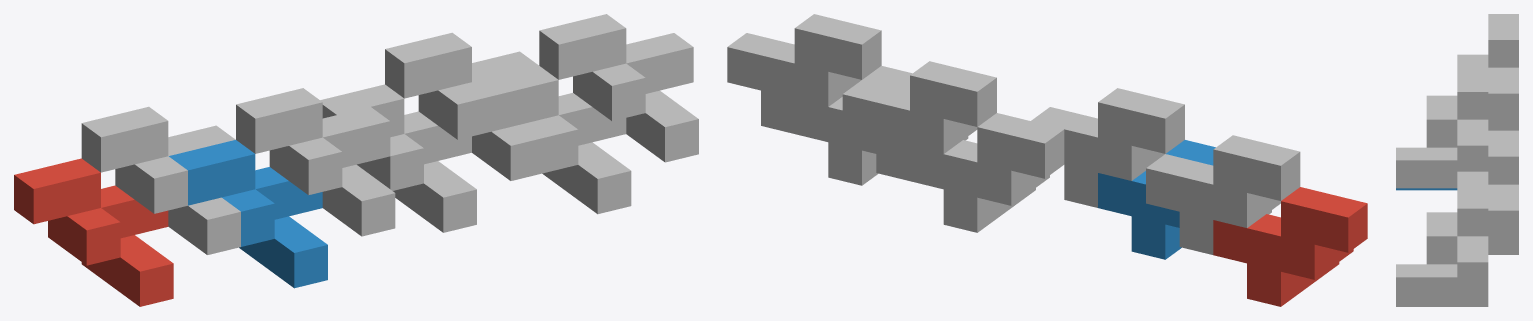
The model's file is tiling.obj.
The picture shows the model from 3 angles, left to right: view 1: azimuth 30°, elevation 25°; view 2: azimuth 150°, elevation 25°; view 3: azimuth 270°, elevation 25°; orthographic projection. The views are drawn at different scales.
Visible parts, largest first — view 1: copy_1_domain_4, copy_1_domain_8, copy_1_domain_1, copy_1_domain_7, copy_1_domain_3, copy_1_domain_6, copy_1_domain_2, copy_1_domain_5; view 2: copy_1_domain_5, copy_1_domain_1, copy_1_domain_3, copy_1_domain_7, copy_1_domain_8, copy_1_domain_4, copy_1_domain_6, copy_1_domain_2; view 3: copy_1_domain_8, copy_1_domain_4, copy_1_domain_7, copy_1_domain_3, copy_1_domain_6, copy_1_domain_2.
Boxes of the visible parts, x1,y1,x2,y2 form: copy_1_domain_4: (236,88,395,236); copy_1_domain_8: (539,14,698,162); copy_1_domain_1: (14,158,173,306); copy_1_domain_7: (385,32,544,180); copy_1_domain_3: (81,106,240,254); copy_1_domain_6: (472,66,631,214); copy_1_domain_2: (169,140,327,288); copy_1_domain_5: (320,84,476,232); copy_1_domain_5: (910,113,1064,232); copy_1_domain_1: (1213,187,1367,306); copy_1_domain_3: (1146,135,1300,254); copy_1_domain_7: (842,61,996,180); copy_1_domain_8: (727,14,881,133); copy_1_domain_4: (1031,88,1184,207); copy_1_domain_6: (794,65,912,185); copy_1_domain_2: (1098,140,1215,259); copy_1_domain_8: (1396,182,1488,304); copy_1_domain_4: (1396,66,1488,188); copy_1_domain_7: (1426,130,1518,253); copy_1_domain_3: (1426,14,1518,130); copy_1_domain_6: (1396,305,1488,306); copy_1_domain_2: (1396,188,1457,190).
Size of the model in its own units: 19 by 4 by 4.
